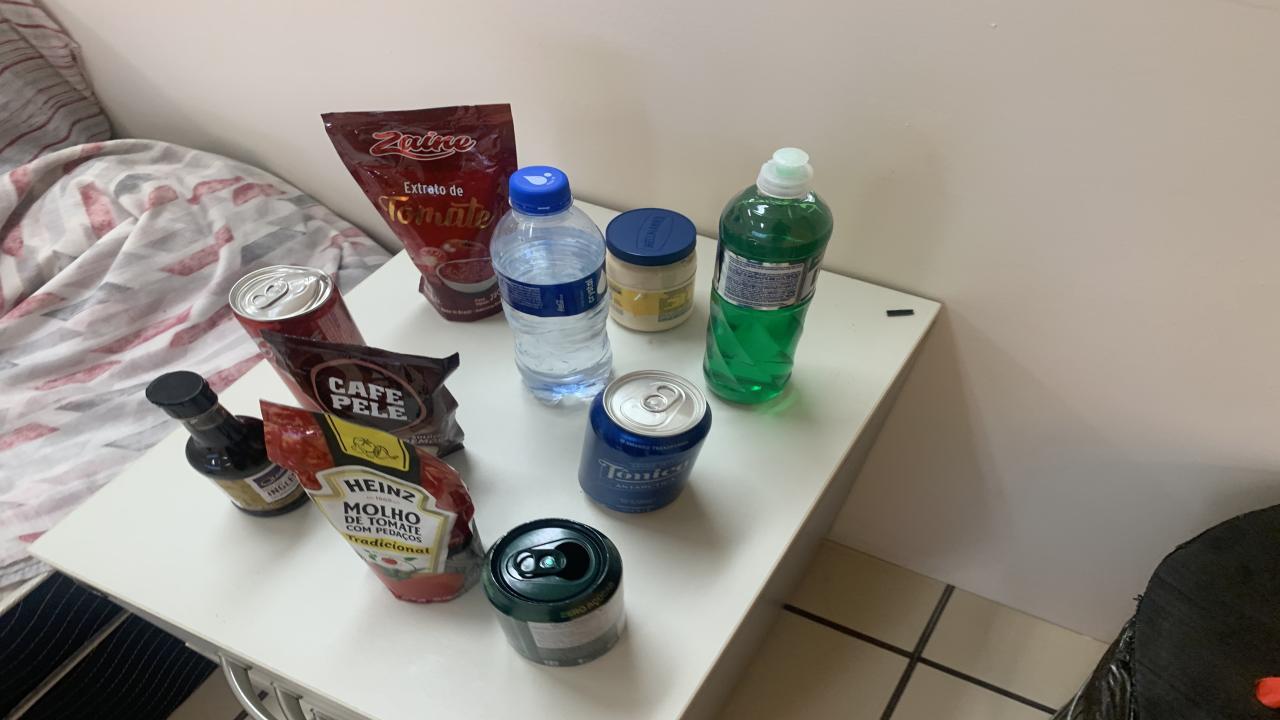Coffee-Pantry_Items: (262, 330, 465, 458)
Coke-Drinks: (230, 266, 365, 349)
Detergent-Cleanup_Items: (702, 148, 832, 403)
English_Sauce-Pantry_Items: (145, 371, 308, 516)
Guarana_Can-Drinks: (482, 518, 625, 666)
Mayonnaise-Pantry_Items: (605, 208, 698, 332)
Tomato_Sauce-Pantry_Items: (260, 401, 485, 602), (322, 105, 518, 321)
Tonic-Drinks: (578, 369, 712, 514)
Water_Bottle-Drinks: (490, 167, 612, 403)
